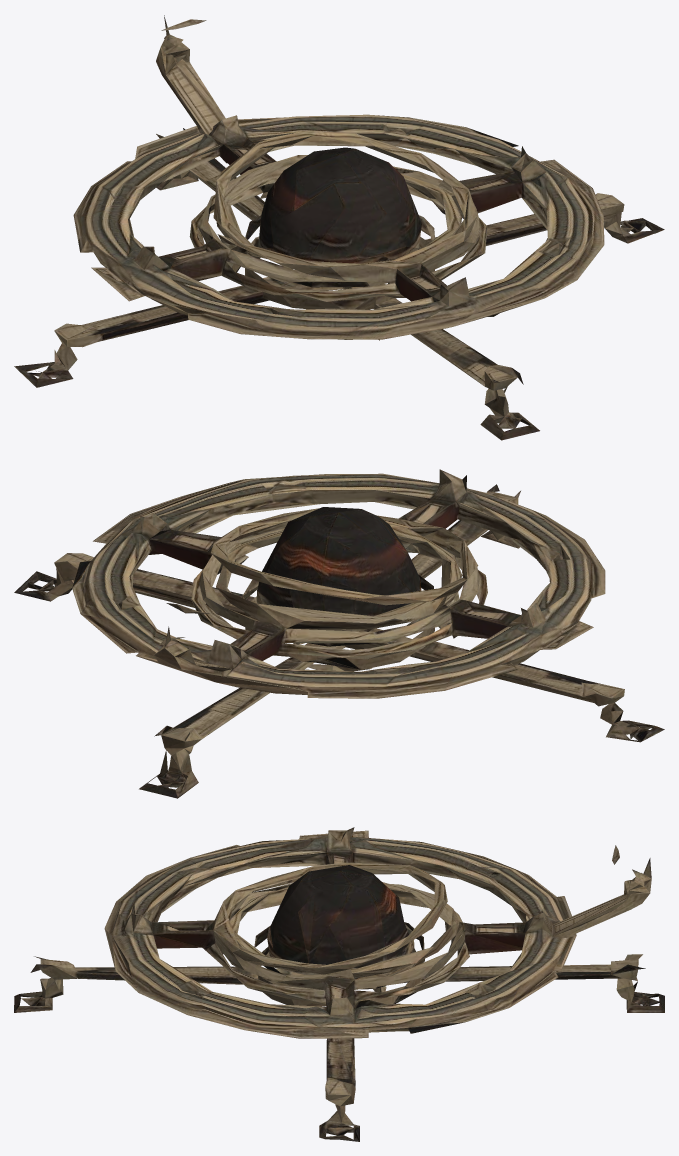
File: nation-o-scout.glb
3 renders of one model, top to bottom at view 1: azimuth 30°, elevation 25°; view 2: azimuth 150°, elevation 25°; view 3: azimuth 270°, elevation 25°, orthographic. The views are drawn at different scales.
Bounding box in the file's own units: 1.9 × 0.4868 × 1.9.
1 material, 1 textured.
